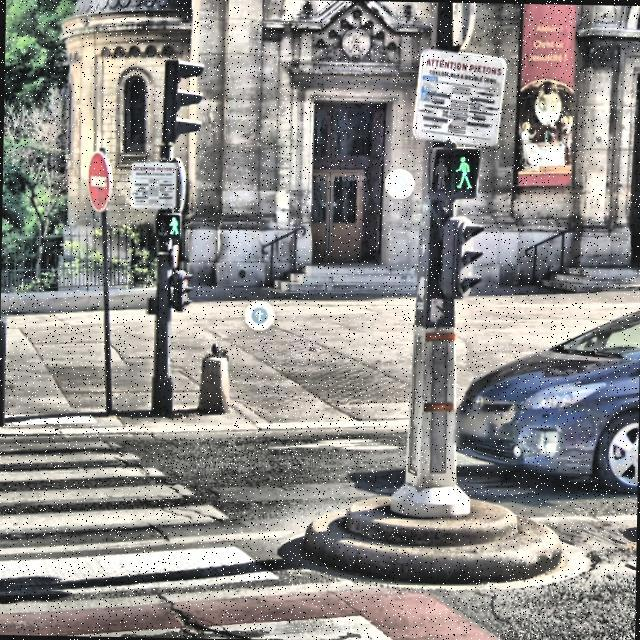green_light: (450, 152, 476, 190), (164, 214, 180, 236)
